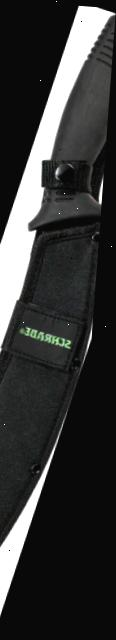long knife: (0, 6, 116, 640)
